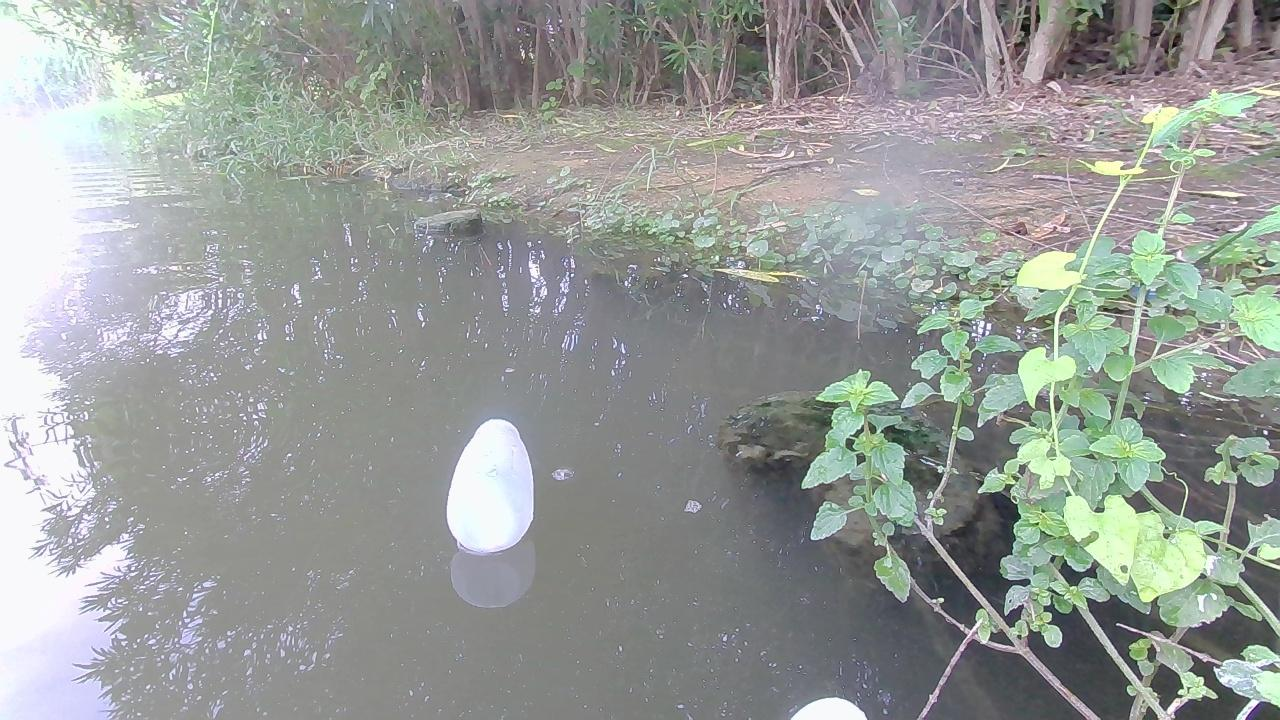bottle: (448, 406, 531, 553)
